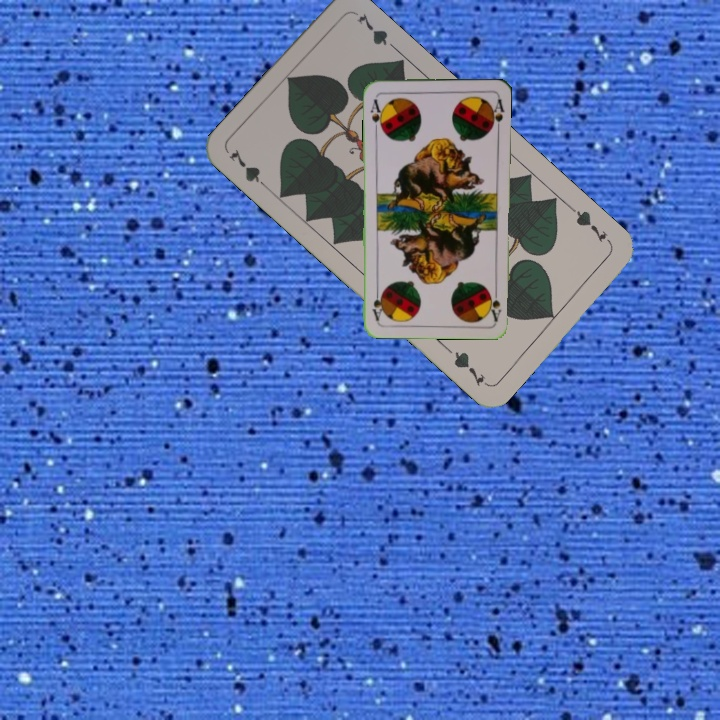G7: (225, 144, 273, 193), (566, 203, 614, 248)
SA: (366, 93, 386, 133), (484, 283, 504, 323)
